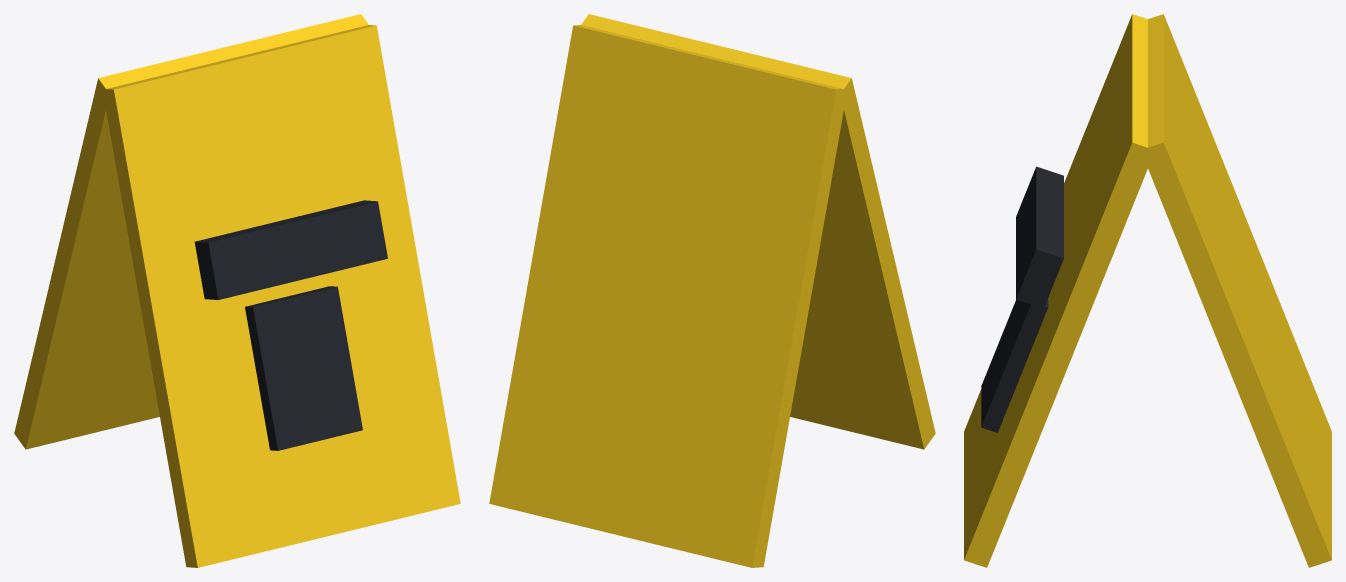
File: wet-floor.glb
3 views of the same model, side by side, from view 1: azimuth 30°, elevation 25°; view 2: azimuth 150°, elevation 25°; view 3: azimuth 270°, elevation 25° (orthographic).
Visible parts, largest first — view 1: wet-floor; view 2: wet-floor; view 3: wet-floor.
Boxes of the visible parts, x1,y1,x2,y2 form: wet-floor: (14, 14, 460, 567); wet-floor: (489, 14, 935, 567); wet-floor: (964, 14, 1331, 567).
Size of the model in its own units: 0.62 by 0.9565 by 0.7499.
